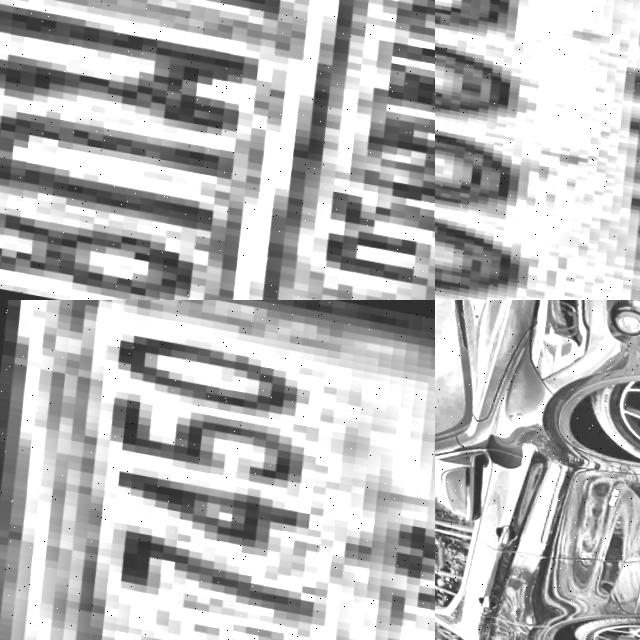license-plate: (0, 300, 435, 640), (0, 0, 435, 300), (435, 0, 640, 300)
